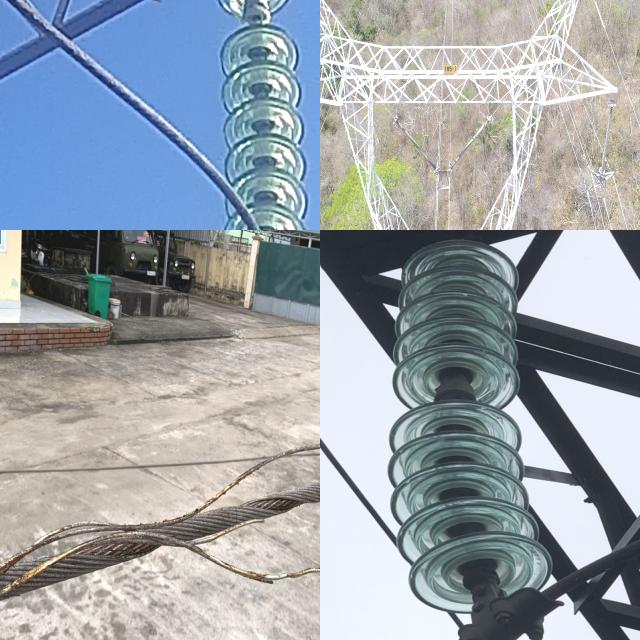杆塔: (320, 0, 623, 230)
正常绝缘子: (369, 230, 562, 625), (203, 0, 319, 230), (391, 112, 439, 175), (448, 113, 493, 172), (599, 96, 620, 187)
电缆破损: (0, 409, 320, 631)
绝缘子破损: (428, 379, 484, 404), (240, 0, 272, 24)
